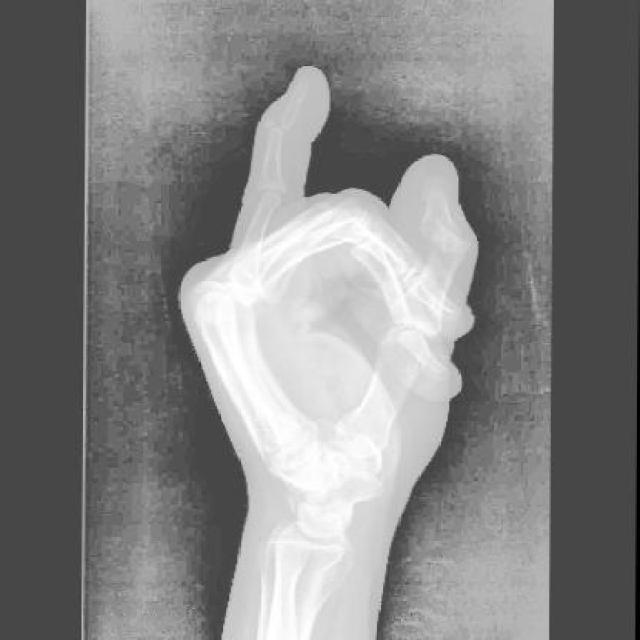Fracture: (262, 113, 285, 133)
